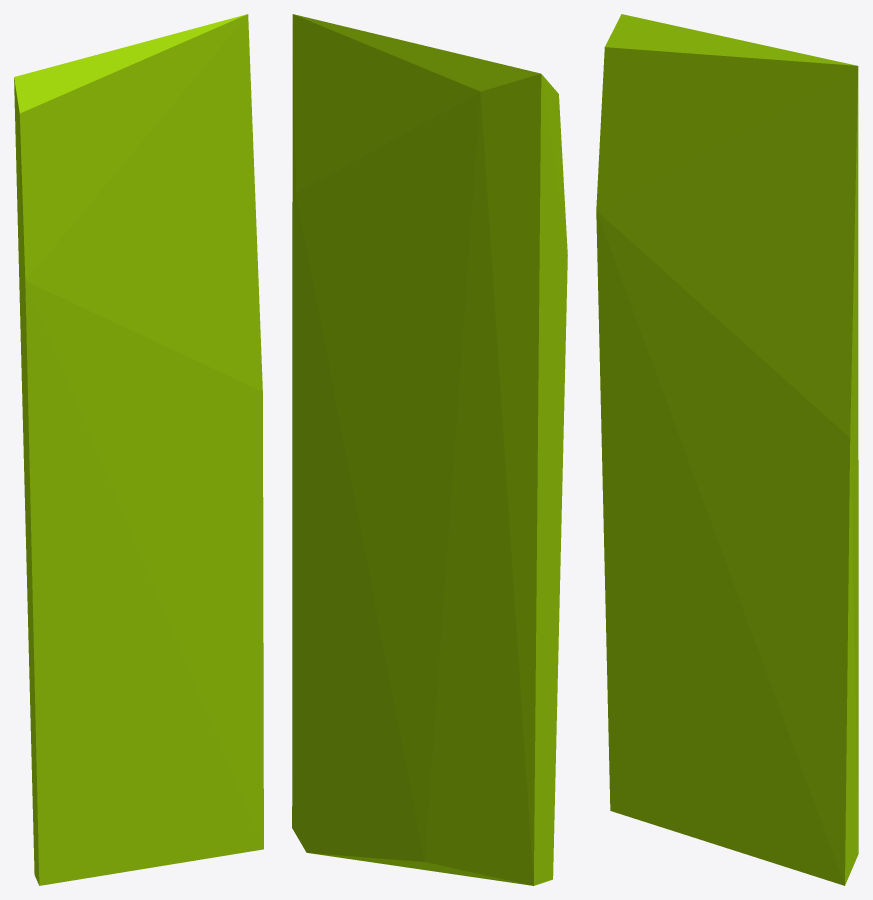
The model's file is recycle_bin_convex_piece_002.obj.
3 renders of one model, left to right at view 1: azimuth 30°, elevation 25°; view 2: azimuth 150°, elevation 25°; view 3: azimuth 330°, elevation 25°, orthographic. The views are drawn at different scales.
Bounding box in the file's own units: 0.1218 × 0.3808 × 0.0201.
